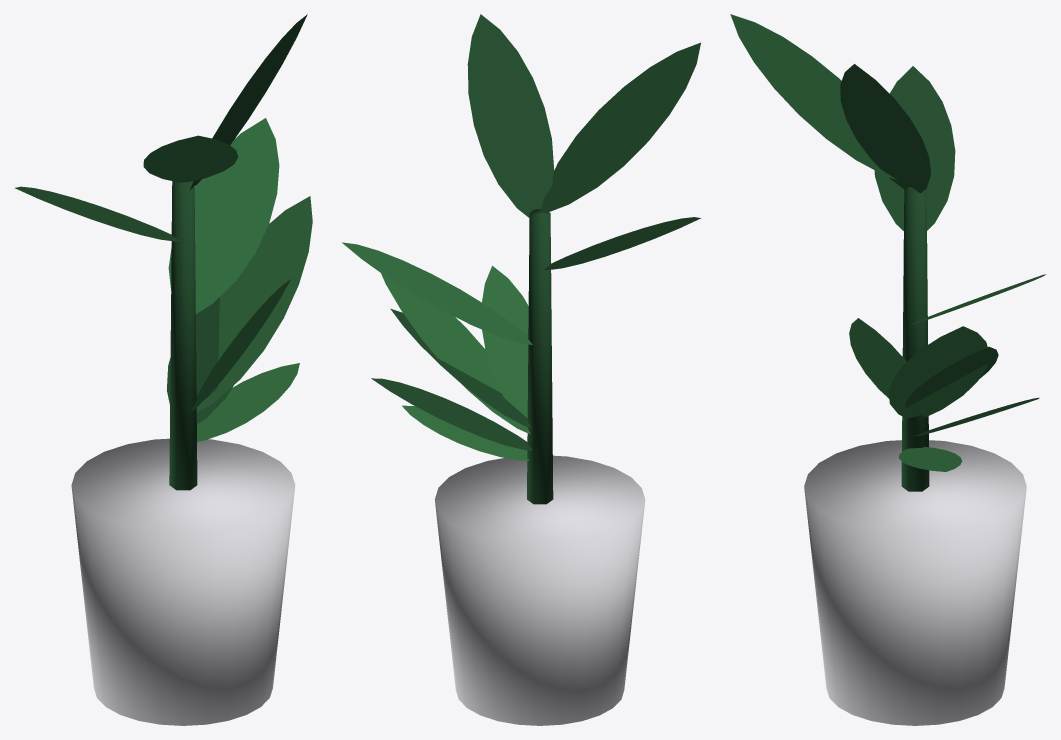
The model's file is Deco_Plant_Small.glb.
The picture shows the model from 3 angles, left to right: view 1: azimuth 30°, elevation 25°; view 2: azimuth 150°, elevation 25°; view 3: azimuth 270°, elevation 25°; orthographic projection. The views are drawn at different scales.
Visible parts, largest first — view 1: Deco_Plant_Small; view 2: Deco_Plant_Small; view 3: Deco_Plant_Small.
Part boxes in pixels (left/top/right/bottom): Deco_Plant_Small: left=15, top=14, right=312, bottom=725; Deco_Plant_Small: left=342, top=14, right=700, bottom=725; Deco_Plant_Small: left=730, top=14, right=1046, bottom=725.
Bounding box in the file's own units: 0.1989 × 0.3984 × 0.1705.
